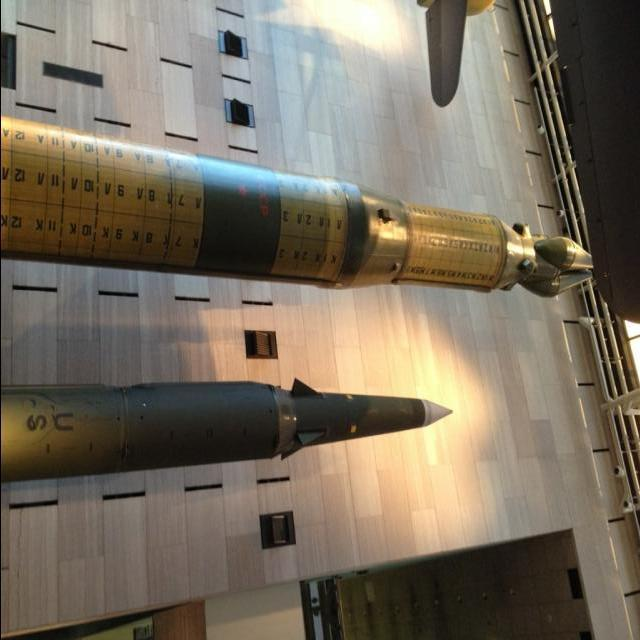Missile: (0, 113, 600, 304), (0, 385, 453, 487)
